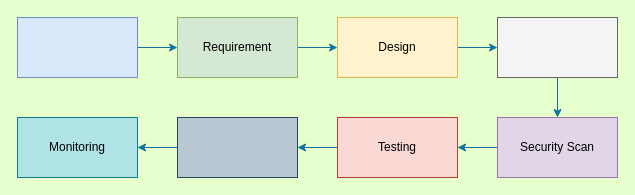
The diagram is 635 pixels wide and 195 high, and some of its shapes have lost their labels. The shapes that lost their labels are listed below. From the top down, each one's centre as x and y in pixels, then its label:
At (x=77, y=47): "Planning".
At (x=557, y=47): "Development".
At (x=237, y=147): "Deployment".
